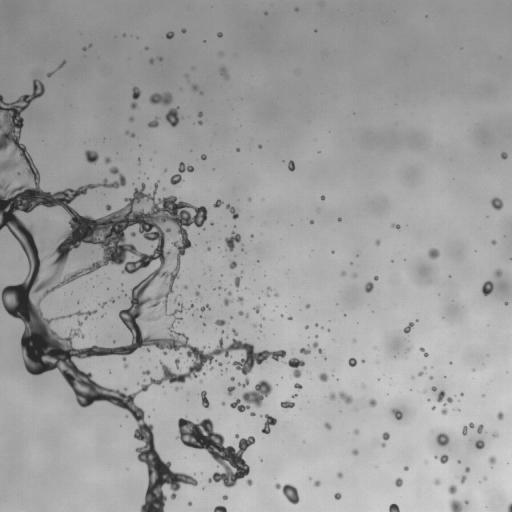droplet: (165, 106, 183, 127), (149, 91, 172, 106), (448, 498, 469, 511), (430, 386, 445, 402), (84, 149, 99, 164), (225, 203, 239, 219), (481, 280, 495, 296), (435, 432, 449, 446), (280, 399, 295, 412), (389, 407, 403, 420), (490, 197, 503, 210), (462, 422, 474, 436), (219, 64, 229, 80), (147, 116, 160, 128), (427, 248, 440, 259), (434, 454, 449, 463), (3, 92, 14, 103), (138, 92, 149, 103), (157, 103, 168, 114), (9, 177, 20, 188), (39, 181, 50, 192), (46, 183, 57, 194), (166, 185, 177, 196), (155, 188, 166, 199), (112, 199, 123, 210), (206, 207, 217, 218), (90, 209, 101, 220), (185, 224, 196, 235), (12, 274, 23, 285), (210, 296, 221, 307), (228, 301, 239, 312), (241, 301, 252, 312), (204, 310, 215, 321), (231, 316, 242, 327), (292, 316, 303, 327), (13, 317, 24, 328), (49, 368, 60, 379), (248, 372, 259, 383), (232, 387, 243, 398), (132, 396, 143, 407), (457, 397, 468, 408), (255, 404, 266, 415), (127, 418, 138, 429), (447, 428, 458, 439), (467, 429, 478, 440), (198, 447, 209, 458), (241, 450, 252, 461), (196, 473, 207, 484), (160, 482, 171, 493), (453, 490, 464, 501), (135, 494, 146, 505), (317, 372, 329, 382), (364, 280, 373, 293), (474, 439, 485, 449), (447, 484, 457, 495), (221, 297, 233, 306), (347, 357, 357, 367), (226, 386, 236, 396), (212, 198, 223, 207), (228, 259, 237, 269), (394, 477, 403, 487), (389, 503, 400, 511), (287, 503, 298, 511), (493, 268, 502, 277), (368, 398, 377, 407), (147, 48, 156, 57), (41, 77, 50, 86), (30, 98, 39, 107), (158, 117, 167, 126), (88, 143, 97, 152), (31, 156, 40, 165), (225, 251, 234, 260), (266, 296, 275, 305), (166, 302, 175, 311), (206, 319, 215, 328), (173, 322, 182, 331), (209, 340, 218, 349), (268, 343, 277, 352), (42, 369, 51, 378), (234, 370, 243, 379), (245, 383, 254, 392), (334, 397, 343, 406), (92, 399, 101, 408), (253, 430, 262, 439), (136, 439, 145, 448), (153, 442, 162, 451), (437, 445, 446, 454), (159, 453, 168, 462), (169, 464, 178, 473), (398, 470, 407, 479), (440, 480, 449, 489), (224, 486, 233, 495), (236, 295, 244, 305), (288, 160, 295, 171), (504, 410, 511, 421), (165, 31, 174, 39), (294, 382, 302, 391), (323, 422, 331, 431), (491, 430, 499, 439), (125, 130, 135, 137), (161, 505, 172, 511), (459, 505, 470, 511), (500, 151, 508, 159), (104, 156, 112, 164), (433, 477, 441, 485), (496, 411, 503, 420), (477, 424, 483, 434), (231, 328, 238, 336), (351, 448, 359, 455), (246, 478, 253, 486), (313, 480, 321, 487), (334, 492, 341, 500), (0, 305, 5, 316), (352, 428, 359, 435), (336, 471, 343, 478), (173, 30, 180, 37), (145, 50, 152, 57), (212, 68, 219, 75), (189, 76, 196, 83), (184, 84, 191, 91), (26, 87, 33, 94), (157, 87, 164, 94), (134, 97, 141, 104), (167, 102, 174, 109), (129, 108, 136, 115), (25, 146, 32, 153), (108, 152, 115, 159), (96, 156, 103, 163), (87, 161, 94, 168), (118, 167, 125, 174), (38, 170, 45, 177), (181, 170, 188, 177), (112, 174, 119, 181), (124, 176, 131, 183), (80, 179, 87, 186), (68, 201, 75, 208), (486, 204, 493, 211), (110, 205, 117, 212), (78, 209, 85, 216), (202, 220, 209, 227), (220, 241, 227, 248), (432, 242, 439, 249), (421, 249, 428, 256), (430, 257, 437, 264), (232, 267, 239, 274), (345, 267, 352, 274), (489, 275, 496, 282), (229, 284, 236, 291), (188, 285, 195, 292), (220, 291, 227, 298), (231, 291, 238, 298), (260, 295, 267, 302), (251, 298, 258, 305), (194, 301, 201, 308), (5, 313, 12, 320), (221, 313, 228, 320), (308, 325, 315, 332), (245, 337, 252, 344), (188, 339, 195, 346), (222, 340, 229, 347), (272, 344, 279, 351), (252, 346, 259, 353), (310, 347, 317, 354), (296, 353, 303, 360), (283, 354, 290, 361), (265, 355, 272, 362), (424, 368, 431, 375), (312, 370, 319, 377), (421, 373, 428, 380), (59, 376, 66, 383), (295, 376, 302, 383), (326, 376, 333, 383), (266, 377, 273, 384), (315, 378, 322, 385), (61, 379, 68, 386), (162, 379, 169, 386), (428, 379, 435, 386), (173, 380, 180, 387), (149, 383, 156, 390), (270, 385, 277, 392), (344, 388, 351, 395), (261, 396, 268, 403), (430, 398, 437, 405), (248, 401, 255, 408), (435, 401, 442, 408), (445, 402, 452, 409), (120, 407, 127, 414), (127, 414, 134, 421), (143, 417, 150, 424), (172, 424, 179, 431), (212, 426, 219, 433), (474, 433, 481, 440), (222, 440, 229, 447), (188, 446, 195, 453), (495, 456, 502, 463), (140, 462, 147, 469), (217, 466, 224, 473), (184, 468, 191, 475), (236, 477, 243, 484), (289, 479, 296, 486), (453, 479, 460, 486), (141, 482, 148, 489), (280, 495, 287, 502), (218, 499, 225, 506), (283, 499, 290, 506), (374, 238, 380, 246), (290, 393, 298, 399), (418, 389, 427, 394), (184, 506, 193, 511), (443, 506, 452, 511), (130, 230, 136, 237), (287, 314, 293, 321), (174, 386, 182, 391), (197, 111, 203, 117), (128, 116, 134, 122), (197, 119, 203, 125), (200, 154, 206, 160), (491, 239, 497, 245), (340, 270, 346, 276), (351, 272, 357, 278), (304, 303, 310, 309), (360, 382, 366, 388), (222, 494, 228, 500), (0, 110, 4, 119), (149, 57, 154, 64), (218, 51, 223, 57), (157, 56, 163, 61), (320, 195, 325, 201), (209, 220, 215, 225), (205, 246, 211, 251), (373, 275, 378, 281), (405, 347, 410, 353), (360, 358, 366, 363), (249, 411, 255, 416), (403, 466, 409, 471), (482, 475, 487, 481), (507, 152, 511, 159), (134, 507, 141, 511), (501, 507, 508, 511), (181, 28, 186, 33), (217, 32, 222, 37), (246, 197, 251, 202), (309, 219, 314, 224), (227, 290, 232, 295), (410, 375, 415, 380), (428, 375, 433, 380), (430, 405, 435, 410), (423, 459, 428, 464), (180, 23, 185, 28), (166, 38, 171, 43), (83, 41, 88, 46), (86, 47, 91, 52), (153, 58, 158, 63), (56, 59, 61, 64), (144, 59, 149, 64), (224, 63, 229, 68), (46, 67, 51, 72), (227, 70, 232, 75), (218, 74, 223, 79), (43, 84, 48, 89), (128, 90, 133, 95), (193, 90, 198, 95), (129, 97, 134, 102), (176, 112, 181, 117), (133, 115, 138, 120), (199, 115, 204, 120), (148, 116, 153, 121), (194, 116, 199, 121), (22, 119, 27, 124), (165, 121, 170, 126), (176, 121, 181, 126), (202, 121, 207, 126), (150, 126, 155, 131), (128, 127, 133, 132), (134, 131, 139, 136), (125, 134, 130, 139), (131, 136, 136, 141), (17, 138, 22, 143), (105, 152, 110, 157), (81, 154, 86, 159), (496, 154, 501, 159), (283, 161, 288, 166), (107, 162, 112, 167), (165, 177, 170, 182), (98, 178, 103, 183), (91, 179, 96, 184), (7, 185, 12, 190), (72, 185, 77, 190), (98, 185, 103, 190), (136, 185, 141, 190), (58, 186, 63, 191), (102, 186, 107, 191), (109, 186, 114, 191), (156, 186, 161, 191), (86, 188, 91, 193), (142, 188, 147, 193), (49, 189, 54, 194), (248, 192, 253, 197), (78, 193, 83, 198), (496, 193, 501, 198), (488, 194, 493, 199), (242, 198, 247, 203), (501, 198, 506, 203), (195, 202, 200, 207), (219, 203, 224, 208), (108, 208, 113, 213), (493, 208, 498, 213), (205, 212, 210, 217), (227, 212, 232, 217), (394, 219, 399, 224), (190, 222, 195, 227), (2, 225, 7, 230), (391, 226, 396, 231), (234, 228, 239, 233), (226, 233, 231, 238), (186, 234, 191, 239), (490, 234, 495, 239), (239, 237, 244, 242), (370, 238, 375, 243), (189, 239, 194, 244), (379, 240, 384, 245), (202, 243, 207, 248), (17, 245, 22, 250), (184, 247, 189, 252), (19, 249, 24, 254), (179, 254, 184, 259), (232, 256, 237, 261), (352, 257, 357, 262), (235, 259, 240, 264), (225, 260, 230, 265), (493, 264, 498, 269), (203, 266, 208, 271), (225, 266, 230, 271), (501, 270, 506, 275), (173, 278, 178, 283), (229, 278, 234, 283), (371, 279, 376, 284), (238, 280, 243, 285), (214, 281, 219, 286), (477, 285, 482, 290), (360, 286, 365, 291), (207, 287, 212, 292), (370, 288, 375, 293), (277, 289, 282, 294), (268, 290, 273, 295), (478, 290, 483, 295), (238, 291, 243, 296), (167, 293, 172, 298), (486, 293, 491, 298), (190, 294, 195, 299), (226, 294, 231, 299), (242, 294, 247, 299), (269, 294, 274, 299), (176, 296, 181, 301), (219, 299, 224, 304), (227, 302, 232, 307), (300, 304, 305, 309), (196, 309, 201, 314), (175, 311, 180, 316), (233, 312, 238, 317), (283, 312, 288, 317), (240, 314, 245, 319), (218, 315, 223, 320), (211, 316, 216, 321), (199, 317, 204, 322), (261, 320, 266, 325), (403, 321, 408, 326), (309, 323, 314, 328), (220, 324, 225, 329), (175, 327, 180, 332), (17, 333, 22, 338), (234, 335, 239, 340), (16, 337, 21, 342), (311, 337, 316, 342), (315, 337, 320, 342), (317, 343, 322, 348), (296, 344, 301, 349), (197, 345, 202, 350), (280, 345, 285, 350), (418, 351, 423, 356), (355, 357, 360, 362), (221, 363, 226, 368), (417, 366, 422, 371), (318, 368, 323, 373), (236, 369, 241, 374), (197, 370, 202, 375), (325, 370, 330, 375), (412, 370, 417, 375), (416, 375, 421, 380), (184, 376, 189, 381), (228, 381, 233, 386), (293, 387, 298, 392), (140, 390, 145, 395), (324, 391, 329, 396), (334, 392, 339, 397), (455, 393, 460, 398), (205, 394, 210, 399), (351, 394, 356, 399), (367, 394, 372, 399), (280, 396, 285, 401), (324, 396, 329, 401), (441, 396, 446, 401), (197, 397, 202, 402), (230, 397, 235, 402), (289, 397, 294, 402), (375, 398, 380, 403), (364, 400, 369, 405), (225, 401, 230, 406), (74, 402, 79, 407), (347, 402, 352, 407), (375, 402, 380, 407), (286, 406, 291, 411), (232, 407, 237, 412), (399, 407, 404, 412), (243, 408, 248, 413), (401, 411, 406, 416), (127, 412, 132, 417), (270, 412, 275, 417), (439, 413, 444, 418), (492, 414, 497, 419), (502, 414, 507, 419), (185, 415, 190, 420), (209, 416, 214, 421), (261, 416, 266, 421), (398, 418, 403, 423), (497, 419, 502, 424), (173, 420, 178, 425), (328, 420, 333, 425), (259, 423, 264, 428), (268, 423, 273, 428), (473, 423, 478, 428), (481, 426, 486, 431), (322, 427, 327, 432), (348, 427, 353, 432), (151, 428, 156, 433), (440, 428, 445, 433), (358, 429, 363, 434), (443, 429, 448, 434), (129, 430, 134, 435), (349, 432, 354, 437), (432, 432, 437, 437), (243, 434, 248, 439), (353, 434, 358, 439), (495, 436, 500, 441), (378, 437, 383, 442), (448, 437, 453, 442), (176, 438, 181, 443), (384, 439, 389, 444), (470, 440, 475, 445), (433, 441, 438, 446), (445, 442, 450, 447), (483, 442, 488, 447), (351, 444, 356, 449), (246, 445, 251, 450), (234, 446, 239, 451), (378, 446, 383, 451), (472, 446, 477, 451), (357, 447, 362, 452), (479, 447, 484, 452), (346, 450, 351, 455), (436, 452, 441, 457), (352, 454, 357, 459), (435, 457, 440, 462), (446, 458, 451, 463), (485, 461, 490, 466), (466, 462, 471, 467), (492, 462, 497, 467), (469, 466, 474, 471), (248, 467, 253, 472), (335, 467, 340, 472), (341, 470, 346, 475), (461, 470, 466, 475), (208, 472, 213, 477), (465, 472, 470, 477), (332, 473, 337, 478), (192, 474, 197, 479), (243, 474, 248, 479), (311, 476, 316, 481), (334, 476, 339, 481), (251, 478, 256, 483), (319, 478, 324, 483), (390, 478, 395, 483), (464, 478, 469, 483), (218, 479, 223, 484), (271, 479, 276, 484), (309, 479, 314, 484), (481, 480, 486, 485), (401, 481, 406, 486), (196, 482, 201, 487), (279, 482, 284, 487), (430, 482, 435, 487), (316, 485, 321, 490), (277, 488, 282, 493), (337, 488, 342, 493), (174, 489, 179, 494), (296, 490, 301, 495), (338, 497, 343, 502), (388, 499, 393, 504), (393, 499, 398, 504), (397, 504, 402, 509), (209, 506, 214, 511), (316, 207, 320, 213), (205, 239, 211, 243), (304, 325, 310, 329), (372, 346, 378, 350), (221, 400, 225, 406), (0, 128, 3, 135), (0, 213, 3, 220), (294, 7, 299, 11), (190, 66, 195, 70), (504, 301, 509, 305), (352, 338, 356, 343), (230, 376, 234, 381), (308, 476, 312, 481), (187, 501, 191, 506), (225, 507, 230, 511), (208, 265, 211, 271), (224, 367, 227, 373), (264, 11, 268, 15), (122, 33, 126, 37), (144, 46, 148, 50), (258, 144, 262, 148), (236, 147, 240, 151), (163, 168, 167, 172), (337, 217, 341, 221), (232, 224, 236, 228), (390, 259, 394, 263), (349, 261, 353, 265), (229, 315, 233, 319), (261, 316, 265, 320), (202, 322, 206, 326), (314, 323, 318, 327), (326, 328, 330, 332), (314, 334, 318, 338), (199, 379, 203, 383), (460, 392, 464, 396), (457, 459, 461, 463), (162, 186, 165, 191), (280, 313, 283, 318), (508, 301, 511, 306), (384, 508, 389, 511), (317, 150, 321, 153), (331, 250, 334, 254), (202, 271, 205, 275), (448, 274, 451, 278), (120, 282, 123, 286), (244, 286, 248, 289), (121, 288, 124, 292), (320, 326, 324, 329), (332, 338, 335, 342), (481, 394, 485, 397), (426, 398, 430, 401), (125, 414, 128, 418), (374, 464, 377, 468), (125, 467, 129, 470), (478, 480, 482, 483), (202, 486, 205, 490), (226, 334, 228, 339), (0, 288, 2, 293), (0, 299, 2, 304), (425, 14, 428, 17), (314, 29, 317, 32), (136, 36, 139, 39), (138, 144, 141, 147), (148, 158, 151, 161), (146, 176, 149, 179), (132, 182, 135, 185), (260, 198, 263, 201), (233, 254, 236, 257), (403, 258, 406, 261), (220, 274, 223, 277), (197, 284, 200, 287), (106, 287, 109, 290), (275, 304, 278, 307), (284, 304, 287, 307), (371, 310, 374, 313), (343, 313, 346, 316), (259, 329, 262, 332), (262, 334, 265, 337), (112, 340, 115, 343), (449, 361, 452, 364), (155, 365, 158, 368), (430, 365, 433, 368), (472, 368, 475, 371), (505, 370, 508, 373), (443, 375, 446, 378), (336, 378, 339, 381), (457, 399, 460, 402), (152, 408, 155, 411), (302, 440, 305, 443), (193, 453, 196, 456), (262, 8, 265, 11), (266, 9, 269, 12), (293, 10, 296, 13), (260, 11, 263, 14), (311, 27, 314, 30), (170, 28, 173, 31), (316, 28, 319, 31), (216, 29, 219, 32), (120, 30, 123, 33), (179, 31, 182, 34), (184, 31, 187, 34), (221, 31, 224, 34), (312, 31, 315, 34), (125, 32, 128, 35), (132, 35, 135, 38), (163, 35, 166, 38), (202, 36, 205, 39), (216, 36, 219, 39), (219, 36, 222, 39), (170, 37, 173, 40), (205, 40, 208, 43), (202, 42, 205, 45), (144, 43, 147, 46), (144, 49, 147, 52), (82, 50, 85, 53), (159, 60, 162, 63), (63, 63, 66, 66), (59, 67, 62, 70), (50, 74, 53, 77), (32, 76, 35, 79), (199, 87, 202, 90), (197, 108, 200, 111), (195, 111, 198, 114), (195, 122, 198, 125), (144, 123, 147, 126), (129, 136, 132, 139), (138, 140, 141, 143), (236, 144, 239, 147), (135, 145, 138, 148), (140, 145, 143, 148), (261, 145, 264, 148), (255, 146, 258, 149), (239, 147, 242, 150), (316, 147, 319, 150), (232, 148, 235, 151), (236, 151, 239, 154), (317, 152, 320, 155), (197, 155, 200, 158), (134, 156, 137, 159), (139, 156, 142, 159), (501, 158, 504, 161), (202, 159, 205, 162), (293, 162, 296, 165), (184, 163, 187, 166), (163, 164, 166, 167), (211, 164, 214, 167), (160, 168, 163, 171), (37, 169, 40, 172), (287, 169, 290, 172), (14, 172, 17, 175), (145, 173, 148, 176), (153, 179, 156, 182), (4, 182, 7, 185), (321, 192, 324, 195), (317, 196, 320, 199), (324, 196, 327, 199), (251, 198, 254, 201), (212, 200, 215, 203), (229, 203, 232, 206), (215, 206, 218, 209), (337, 214, 340, 217), (235, 217, 238, 220), (334, 217, 337, 220), (341, 217, 344, 220), (306, 219, 309, 222), (313, 220, 316, 223), (338, 220, 341, 223), (310, 223, 313, 226), (399, 223, 402, 226), (399, 226, 402, 229), (8, 231, 11, 234), (252, 232, 255, 235), (247, 233, 250, 236), (11, 235, 14, 238), (248, 236, 251, 239), (251, 237, 254, 240), (488, 238, 491, 241), (489, 243, 492, 246), (210, 247, 213, 250), (331, 247, 334, 250), (243, 248, 246, 251), (206, 250, 209, 253), (334, 250, 337, 253), (354, 250, 357, 253), (240, 251, 243, 254), (328, 251, 331, 254), (508, 254, 511, 257), (401, 255, 404, 258), (256, 256, 259, 259), (390, 256, 393, 259), (253, 258, 256, 261), (508, 259, 511, 262), (346, 261, 349, 264), (388, 261, 391, 264), (392, 261, 395, 264), (179, 262, 182, 265), (255, 262, 258, 265), (240, 272, 243, 275), (374, 272, 377, 275), (260, 273, 263, 276), (450, 273, 453, 276), (445, 275, 448, 278), (218, 276, 221, 279), (377, 276, 380, 279), (448, 277, 451, 280), (196, 281, 199, 284), (265, 283, 268, 286), (270, 285, 273, 288), (171, 286, 174, 289), (196, 287, 199, 290), (215, 287, 218, 290), (220, 287, 223, 290), (182, 288, 185, 291), (225, 288, 228, 291), (263, 288, 266, 291), (256, 293, 259, 296), (504, 298, 507, 301), (304, 301, 307, 304), (332, 301, 335, 304), (208, 304, 211, 307), (502, 304, 505, 307), (197, 306, 200, 309), (308, 306, 311, 309), (190, 307, 193, 310), (204, 307, 207, 310), (274, 307, 277, 310), (182, 309, 185, 312), (258, 310, 261, 313), (343, 310, 346, 313), (340, 312, 343, 315), (290, 313, 293, 316), (346, 313, 349, 316), (277, 314, 280, 317), (415, 315, 418, 318), (265, 316, 268, 319), (292, 316, 295, 319), (327, 316, 330, 319), (179, 319, 182, 322), (287, 319, 290, 322), (203, 320, 206, 323), (330, 320, 333, 323), (353, 320, 356, 323), (412, 320, 415, 323), (172, 323, 175, 326), (302, 323, 305, 326), (317, 324, 320, 327), (201, 325, 204, 328), (256, 325, 259, 328), (301, 326, 304, 329), (323, 326, 326, 329), (259, 327, 262, 330), (307, 327, 310, 330), (235, 329, 238, 332), (329, 329, 332, 332), (179, 330, 182, 333), (256, 330, 259, 333), (326, 331, 329, 334), (259, 332, 262, 335), (404, 332, 407, 335), (185, 333, 188, 336), (309, 343, 312, 346), (420, 344, 423, 347), (304, 346, 307, 349), (325, 354, 328, 357), (395, 354, 398, 357), (426, 355, 429, 358), (325, 358, 328, 361), (451, 360, 454, 363), (345, 362, 348, 365), (447, 363, 450, 366), (348, 365, 351, 368), (352, 365, 355, 368), (426, 365, 429, 368), (222, 368, 225, 371), (443, 372, 446, 375), (277, 375, 280, 378), (333, 375, 336, 378), (376, 375, 379, 378), (446, 375, 449, 378), (442, 377, 445, 380), (379, 378, 382, 381), (337, 379, 340, 382), (291, 383, 294, 386), (408, 385, 411, 388), (198, 389, 201, 392), (409, 390, 412, 393), (481, 390, 484, 393), (463, 392, 466, 395), (450, 395, 453, 398), (218, 400, 221, 403), (277, 401, 280, 404), (218, 403, 221, 406), (458, 405, 461, 408), (455, 410, 458, 413), (252, 415, 255, 418), (393, 417, 396, 420), (396, 419, 399, 422), (116, 424, 119, 427), (459, 429, 462, 432), (234, 430, 237, 433), (262, 432, 265, 435), (249, 433, 252, 436), (254, 437, 257, 440), (431, 456, 434, 459), (459, 457, 462, 460), (262, 458, 265, 461), (454, 460, 457, 463), (403, 463, 406, 466), (400, 466, 403, 469), (305, 476, 308, 479), (479, 477, 482, 480), (203, 487, 206, 490), (333, 490, 336, 493), (331, 495, 334, 498), (227, 496, 230, 499), (465, 497, 468, 500), (468, 500, 471, 503), (184, 501, 187, 504), (191, 501, 194, 504), (188, 505, 191, 508), (307, 336, 311, 338), (260, 458, 262, 462), (203, 40, 206, 42), (212, 168, 215, 170), (486, 216, 489, 218), (224, 224, 226, 227), (290, 224, 293, 226), (203, 227, 205, 230), (509, 257, 511, 260), (107, 277, 110, 279), (92, 285, 95, 287), (261, 290, 263, 293), (257, 297, 260, 299), (328, 320, 331, 322), (393, 355, 396, 357), (486, 354, 489, 356), (281, 376, 283, 379), (377, 378, 380, 380), (162, 385, 164, 388), (454, 394, 456, 397), (307, 400, 309, 403), (120, 424, 122, 427), (200, 472, 202, 475), (353, 112, 355, 114), (193, 122, 195, 124), (328, 130, 330, 132), (190, 149, 192, 151), (282, 160, 284, 162), (311, 249, 313, 251), (474, 250, 476, 252), (264, 274, 266, 276), (253, 279, 255, 281), (218, 293, 220, 295), (336, 303, 338, 305), (442, 316, 444, 318), (487, 324, 489, 326), (257, 337, 259, 339), (314, 356, 316, 358), (389, 377, 391, 379), (410, 388, 412, 390), (386, 393, 388, 395), (339, 410, 341, 412), (184, 456, 186, 458), (0, 294, 1, 297), (138, 177, 139, 179), (251, 216, 253, 217), (198, 232, 199, 234), (504, 235, 505, 237), (202, 330, 203, 332), (276, 384, 278, 385), (195, 244, 196, 245), (260, 314, 261, 315), (507, 462, 508, 463)
ligament: (230, 379, 273, 413), (274, 482, 300, 505), (184, 74, 203, 95), (325, 391, 353, 404), (46, 59, 66, 77), (196, 390, 212, 410), (403, 319, 419, 335), (130, 86, 141, 109), (192, 303, 211, 316), (440, 396, 453, 415), (97, 296, 115, 308), (252, 303, 266, 313), (193, 288, 202, 302), (488, 455, 496, 469), (214, 319, 229, 326), (390, 222, 401, 231), (419, 347, 428, 357), (238, 310, 249, 318), (213, 505, 227, 511), (82, 43, 92, 51), (251, 323, 263, 328), (506, 502, 511, 511), (137, 157, 141, 166), (100, 312, 106, 318), (250, 233, 254, 241), (452, 407, 460, 411), (217, 246, 221, 253), (355, 250, 359, 257), (331, 368, 334, 377), (199, 315, 205, 319), (305, 370, 311, 374), (77, 299, 80, 305), (117, 295, 121, 299), (271, 309, 275, 313), (256, 259, 259, 263), (109, 369, 111, 373), (71, 291, 72, 295), (438, 293, 440, 295), (144, 173, 145, 175), (149, 358, 151, 359)
